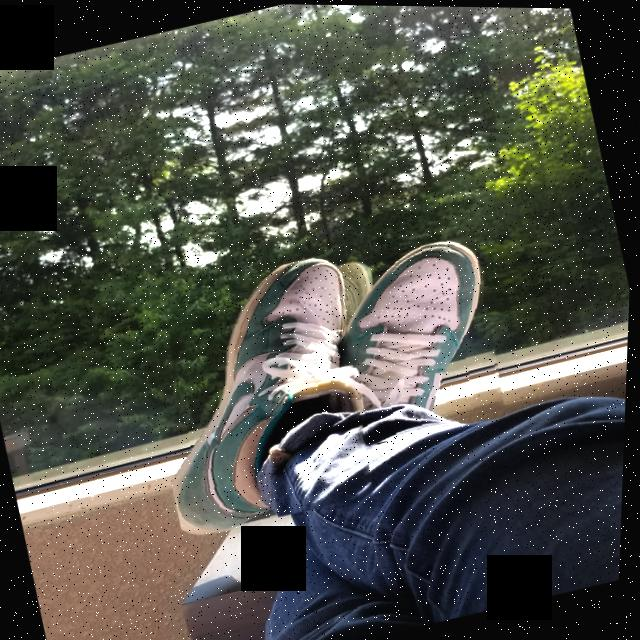shoe: (127, 249, 397, 543), (323, 229, 522, 447)
